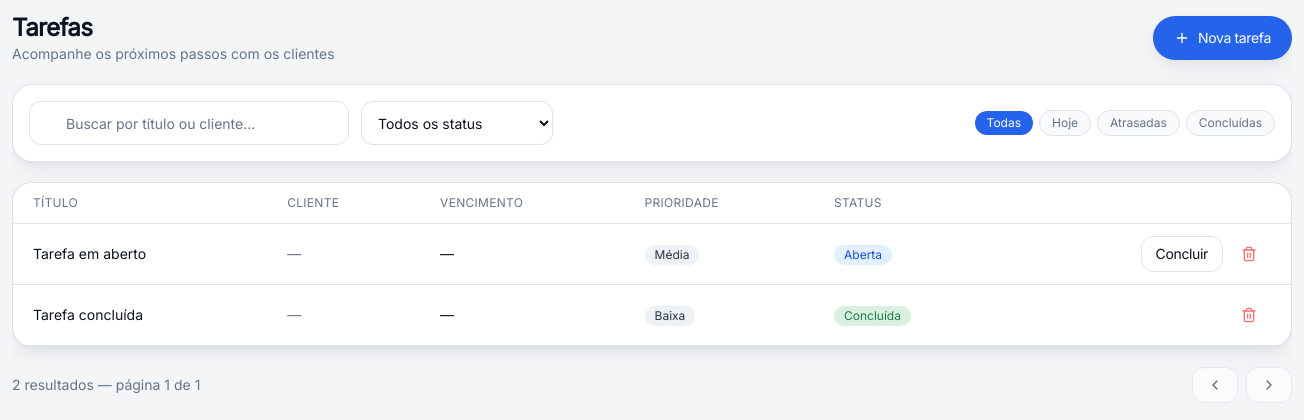
Test case: TasksPage › filters tasks by quick filter chips
Click the button "Concluídas": coordinates (1230, 123) [1186,110,1275,136]
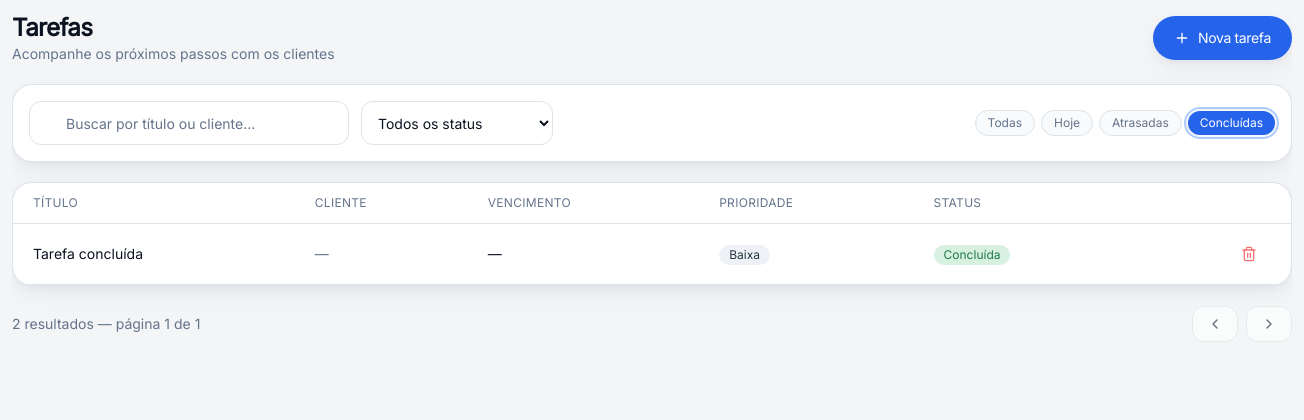
Expected: the text "Tarefa em aberto" is gone
